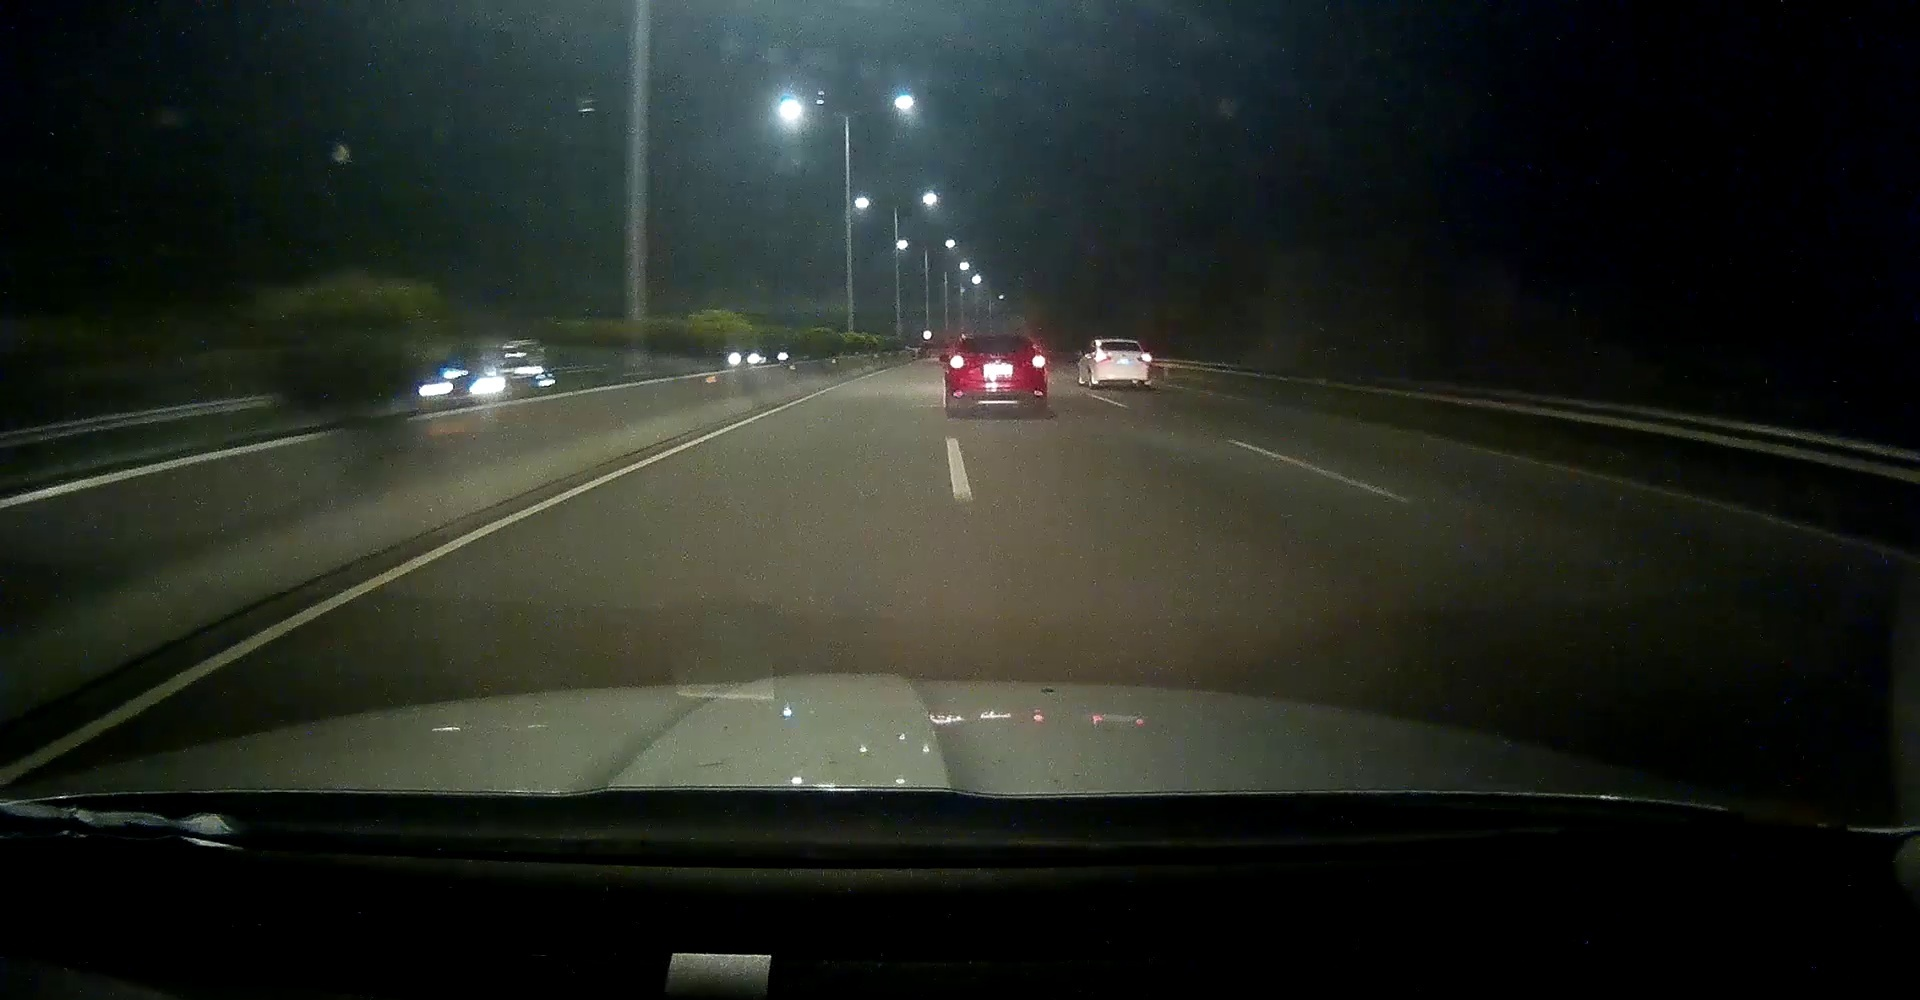L_light: (947, 353, 966, 369), (1095, 352, 1111, 362)
R_light: (1031, 353, 1045, 368), (1137, 353, 1149, 362)
T_light: (985, 334, 1003, 338), (1116, 341, 1125, 344)
night-no: (943, 331, 1048, 416), (1090, 338, 1150, 386)
